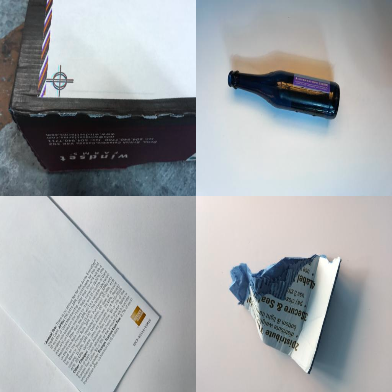cardboard: (8, 1, 196, 173), (228, 253, 342, 374)
glass: (227, 70, 340, 120)
paper: (1, 196, 162, 390)
